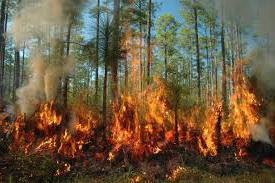fire: (5, 40, 252, 160)
